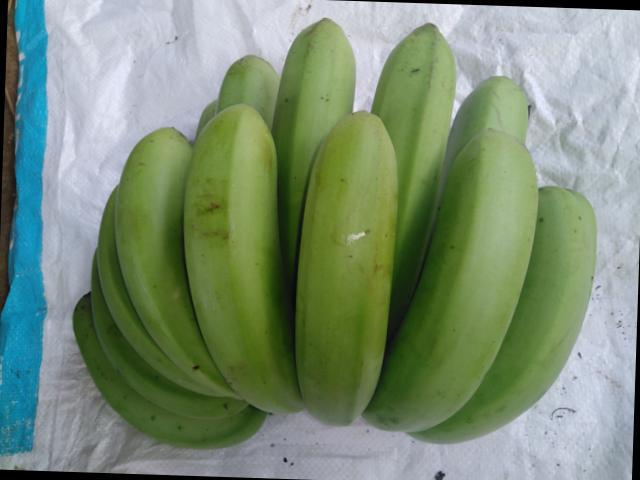freshunripe: (367, 129, 544, 451), (479, 181, 614, 414), (346, 17, 468, 193), (270, 15, 355, 231), (450, 76, 555, 156), (204, 31, 282, 125)
unripe: (190, 98, 328, 429), (291, 108, 408, 456), (100, 113, 209, 420)
